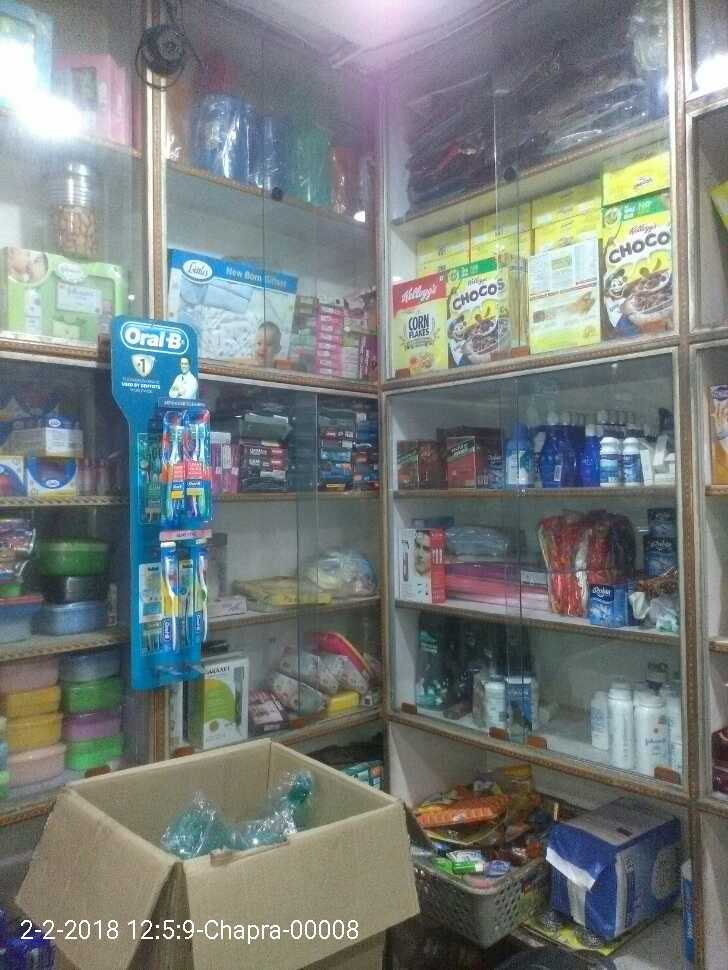oralb: (184, 410, 212, 517), (162, 410, 186, 521), (158, 542, 177, 652), (189, 542, 208, 643)
